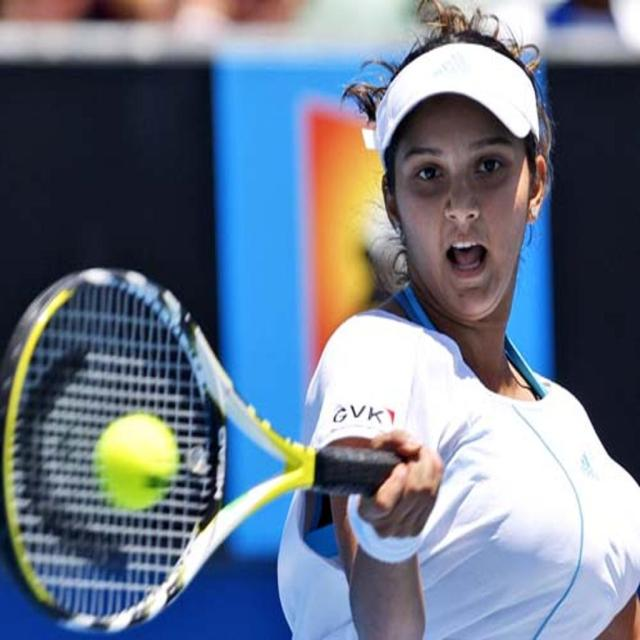Face: (371, 89, 534, 319)
